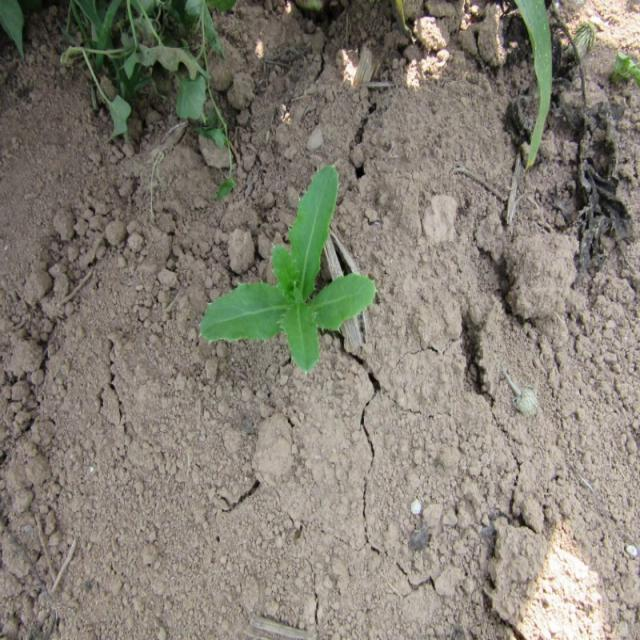cs: (193, 159, 380, 381)
